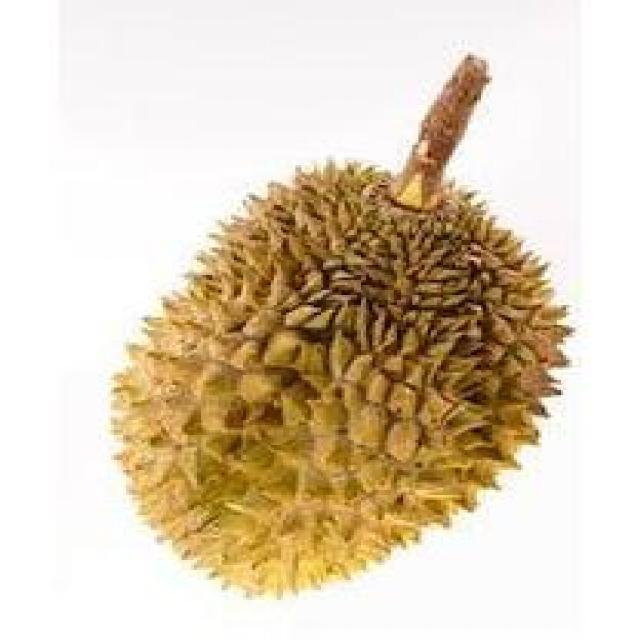fruit: (68, 255, 480, 640)
